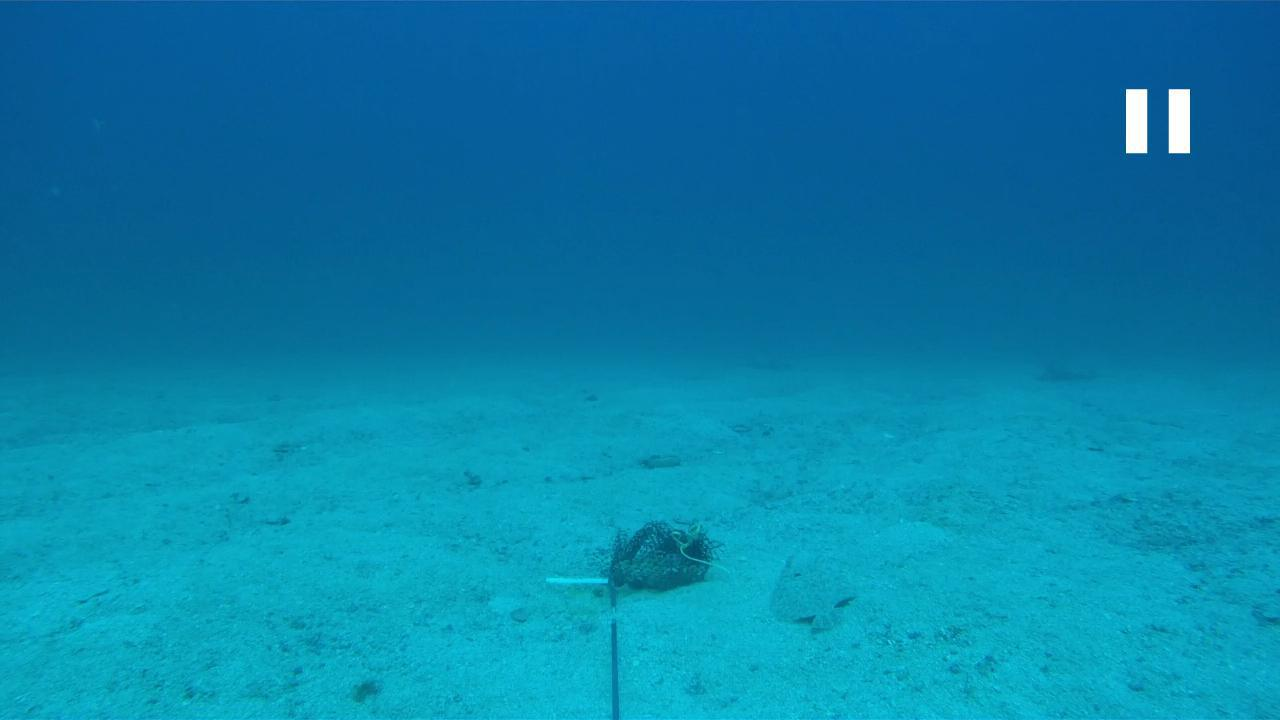bothus: (766, 550, 866, 637)
